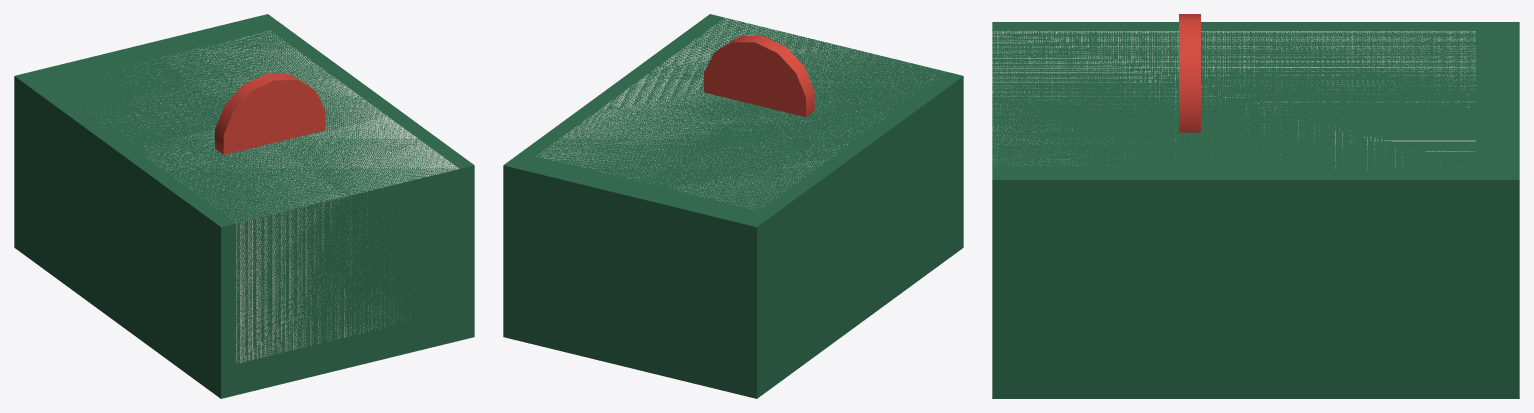
Rendered from wok_prop_mahjong.glb.
3 renders of one model, left to right at view 1: azimuth 30°, elevation 25°; view 2: azimuth 150°, elevation 25°; view 3: azimuth 270°, elevation 25°, orthographic. The views are drawn at different scales.
Bounding box in the file's own units: 0.034 × 0.03 × 0.048.
